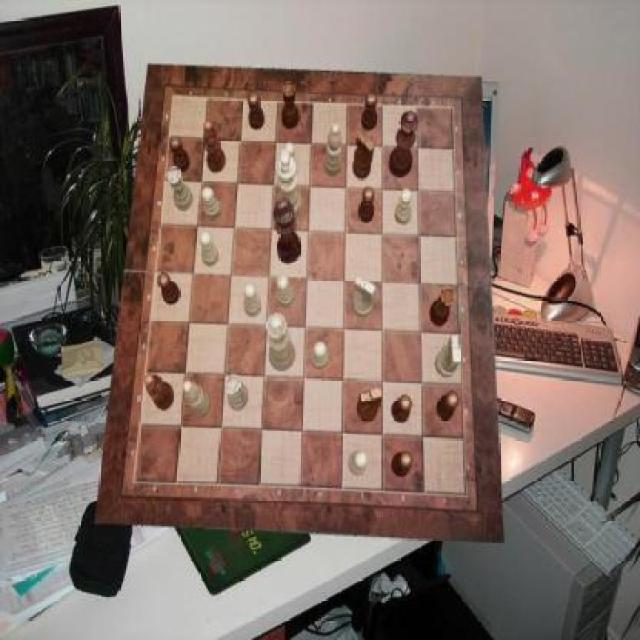bishop: (203, 120, 226, 174), (144, 372, 174, 410)
black-bishop: (274, 197, 301, 263)
black-king: (352, 132, 375, 180), (357, 388, 381, 422)
black-knight: (157, 272, 180, 306), (171, 136, 191, 172), (437, 391, 460, 422), (358, 186, 376, 222), (248, 91, 264, 129), (362, 92, 378, 130), (391, 395, 412, 423), (391, 451, 413, 476)
black-pawn: (389, 112, 419, 178)
black-queen: (431, 288, 455, 326), (282, 80, 299, 129)
black-rook: (183, 382, 211, 419), (325, 123, 342, 177)
white-bishop: (276, 149, 302, 222)
white-king: (436, 335, 462, 378), (354, 277, 377, 318)
white-knight: (200, 231, 219, 267), (202, 188, 222, 222), (395, 190, 413, 226), (243, 283, 261, 318), (277, 276, 295, 310), (282, 142, 298, 179), (348, 451, 368, 476), (311, 343, 328, 371)
white-pawn: (266, 312, 296, 370)
white-queen: (168, 166, 194, 212), (224, 374, 248, 411)
